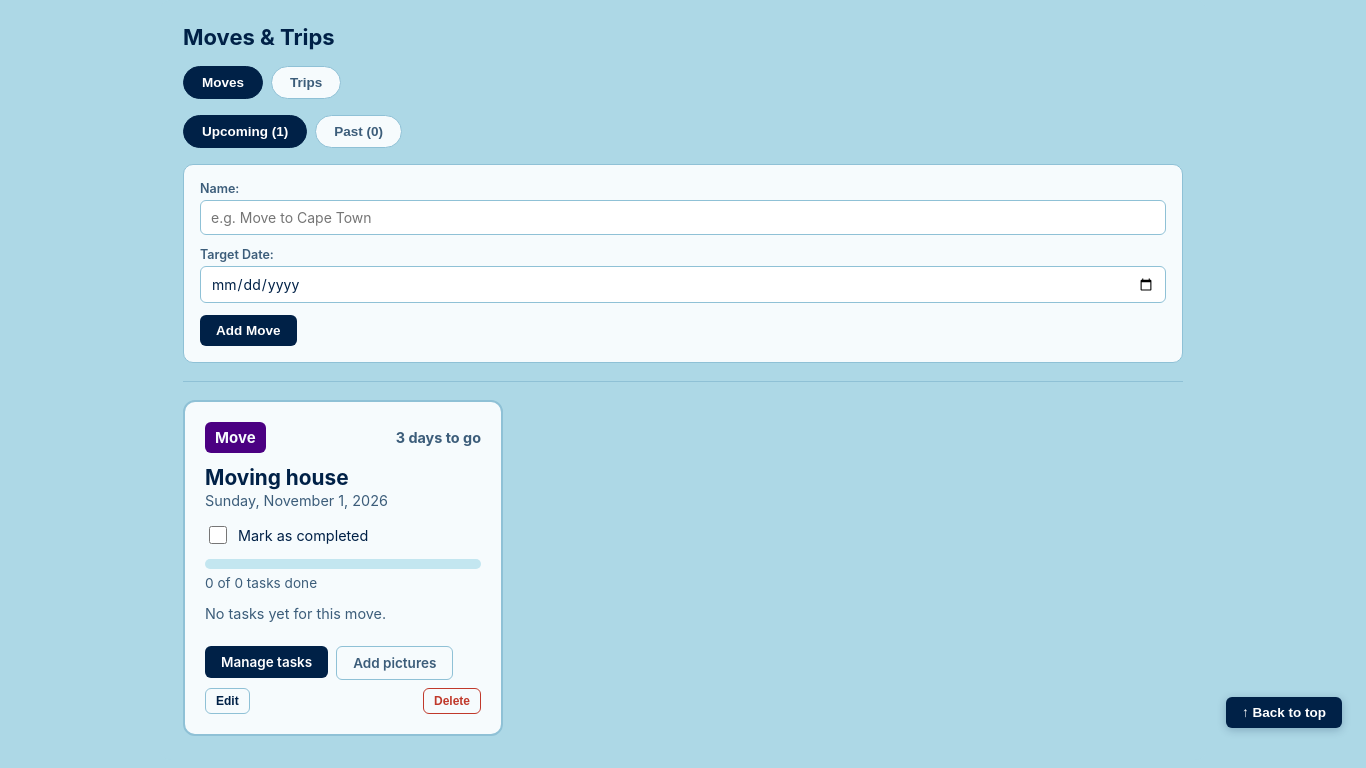
Test: edits a move using its update endpoint
The image size is (1366, 768).
Step 1. Click the button with aria-label "Edit Moving house" → [227, 701], box [205, 688, 250, 714]
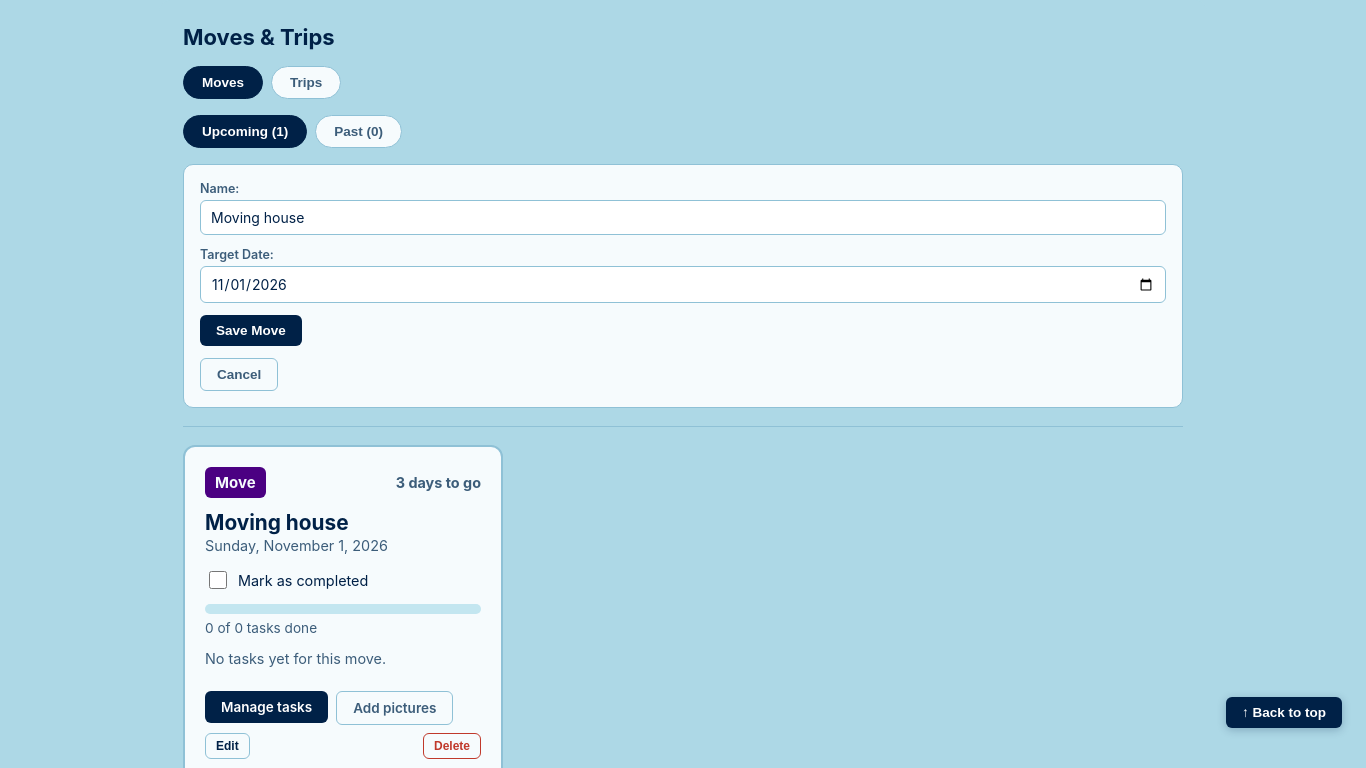
Step 2. Replace the text in the field with placeholder "e.g. Move to Cape Town" with "New home" → [683, 218], box [200, 200, 1166, 235]
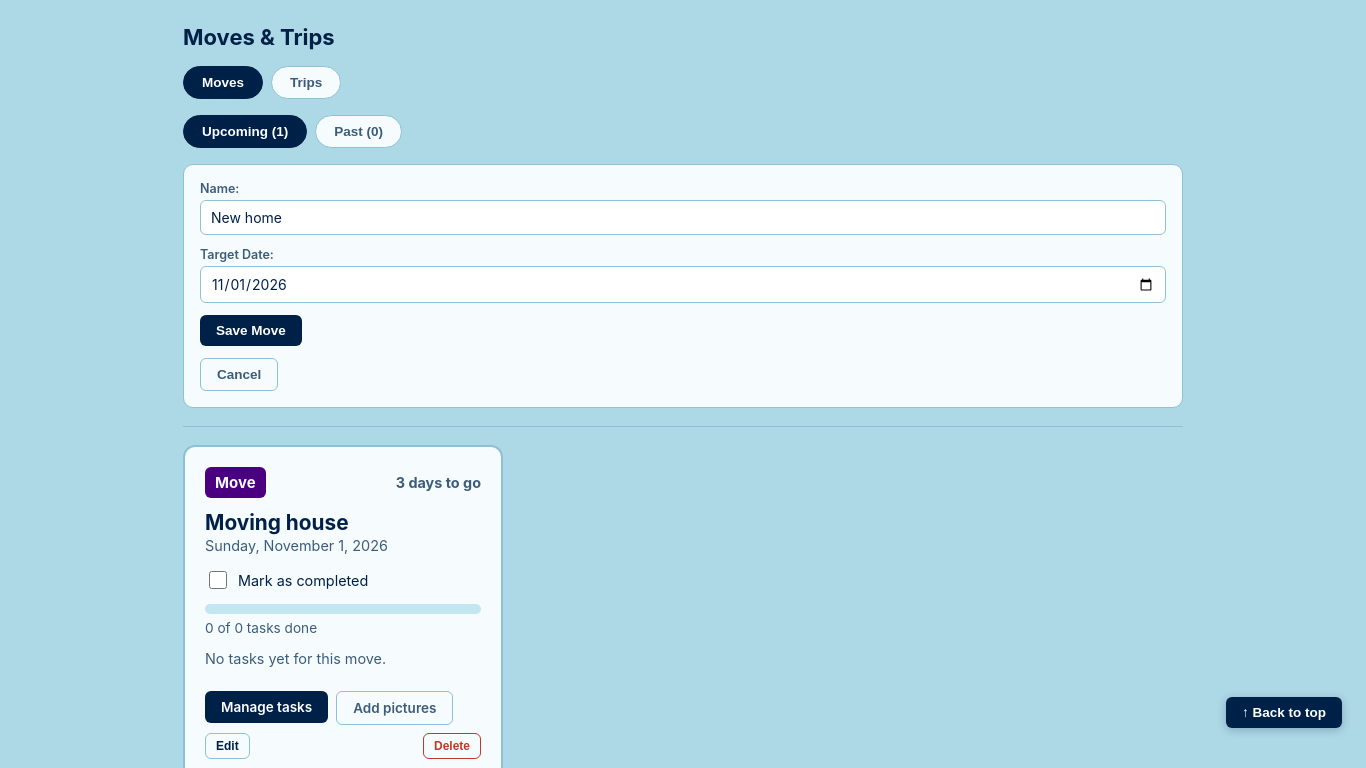
Step 3. Type "2026-11-15" into the date field labelled "Target Date:" → [683, 284], box [200, 266, 1166, 303]
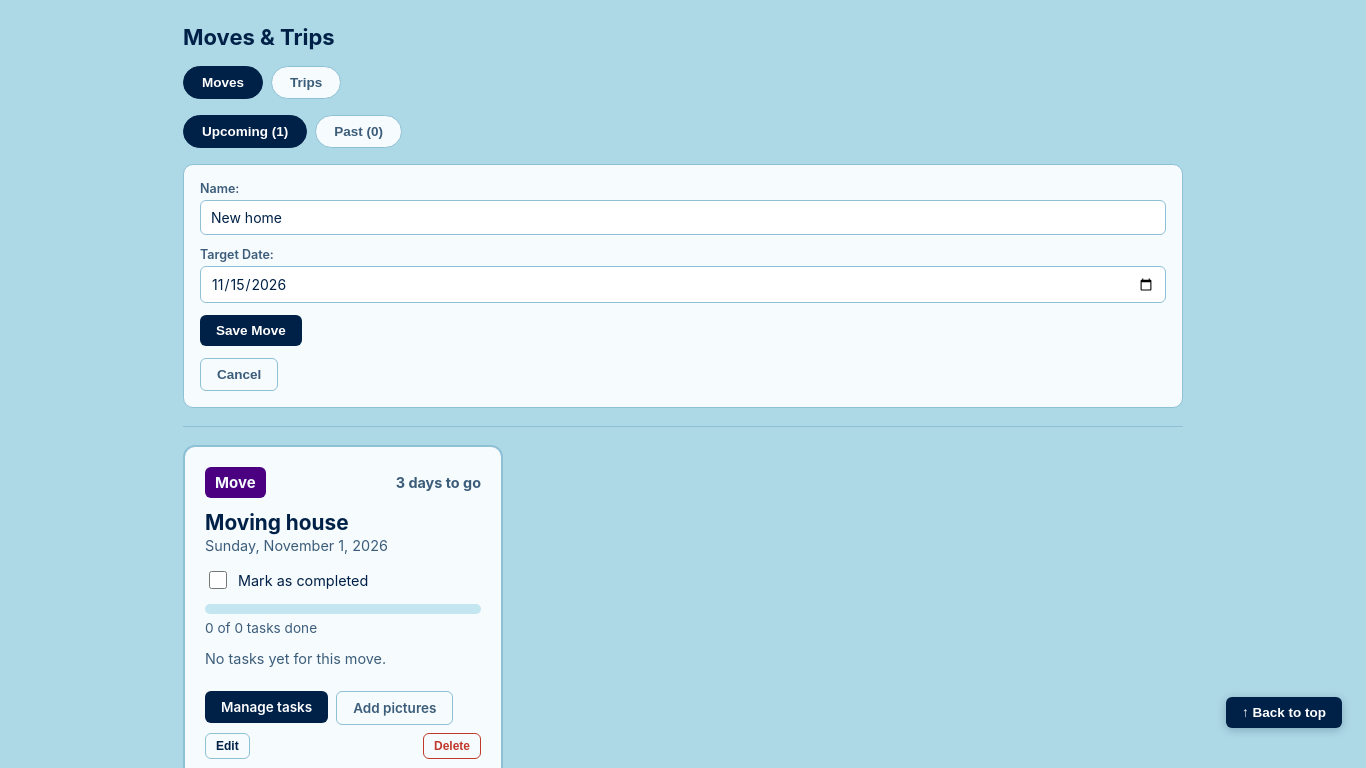
Step 4. Click the button "Save Move" → [251, 330], box [200, 315, 302, 346]
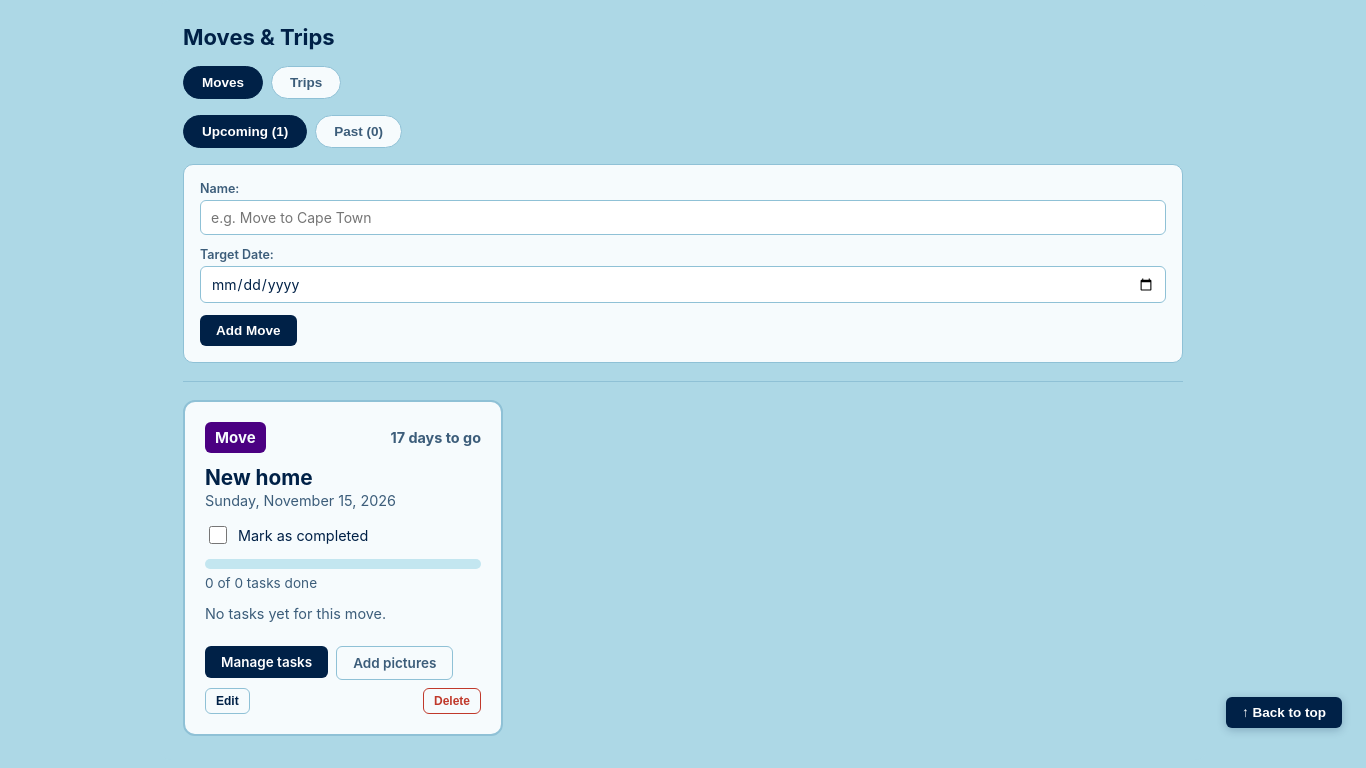
Check: the button with aria-label "Edit New home" is shown, box [205, 688, 250, 714]
